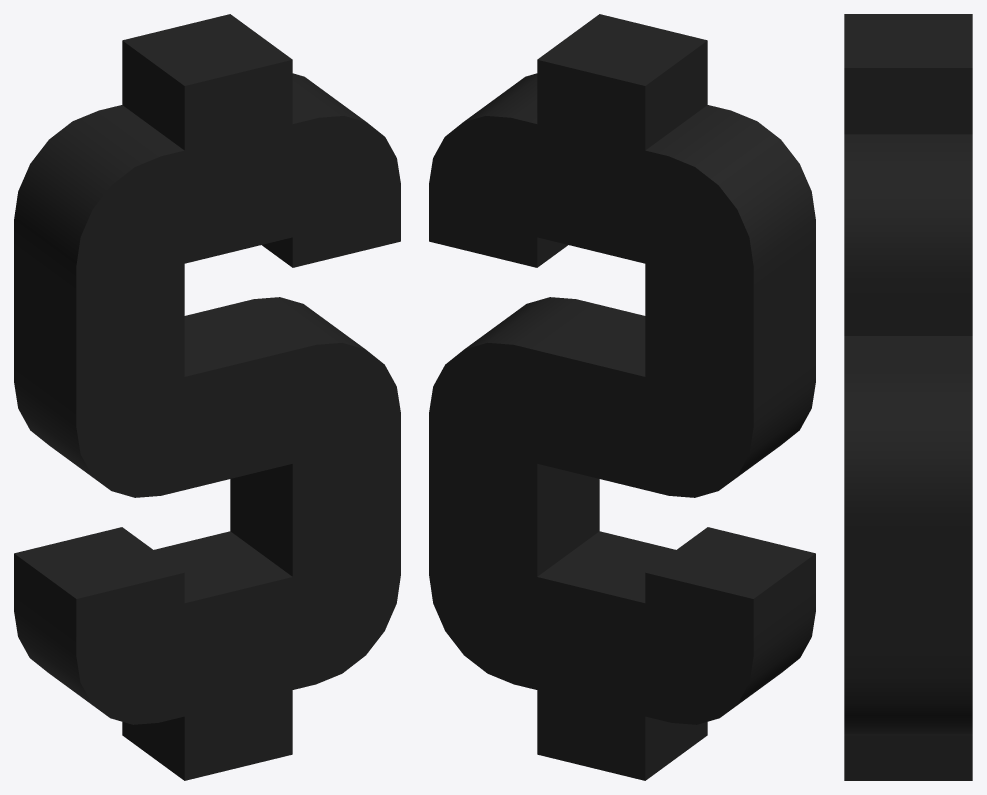
Rendered from heavy_dollar_sign.gltf.
3 views of the same model, side by side, from view 1: azimuth 30°, elevation 25°; view 2: azimuth 150°, elevation 25°; view 3: azimuth 270°, elevation 25° (orthographic). The views are drawn at different scales.
Parts seen in each view (by area): view 1: Cube.6455; view 2: Cube.6455; view 3: Cube.6455.
Part boxes in pixels (left/top/right/bottom): Cube.6455: left=14, top=14, right=400, bottom=780; Cube.6455: left=429, top=14, right=815, bottom=780; Cube.6455: left=844, top=14, right=972, bottom=780.
Size of the model in its own units: 1.05 by 2.16 by 0.3511.
Materials: 1 (1 with a texture image).
